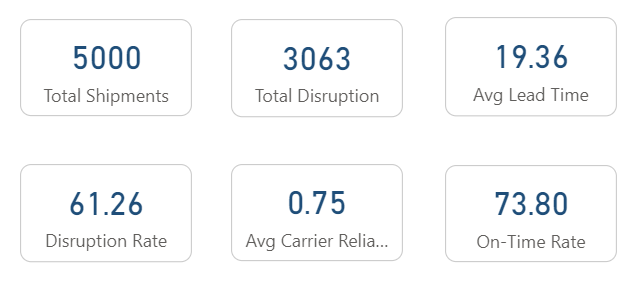

The page's visual inventory and layout, read from the dashboard file:
{"tool":"powerbi","page":{"name":"KPI","canvas":[1280,720],"ordinal":4},"visuals":[{"type":"card","fields":{"Values":["supply_chain_analysis shipments.Total Shipments"]},"box":[374.3,104.8,154.3,86.9],"z":0},{"type":"card","fields":{"Values":["supply_chain_analysis shipments.Total Disruption"]},"box":[563.3,104.8,154,87.8],"z":1},{"type":"card","fields":{"Values":["supply_chain_analysis shipments.Avg Lead Time"]},"box":[754.9,103,154,88.7],"z":2},{"type":"card","fields":{"Values":["supply_chain_analysis shipments.Disruption Rate"]},"box":[374.3,234.6,154,87.8],"z":3},{"type":"card","fields":{"Values":["supply_chain_analysis shipments.Avg Carrier Reliability"]},"box":[563.3,234.6,154,86.9],"z":4},{"type":"card","fields":{"Values":["supply_chain_analysis shipments.On-Time Rate"]},"box":[754.9,235.5,154,86.9],"z":5}]}

Visuals, with their boxes on the page's 1280x720 design canvas (x1, y1, x2, y2). These are canvas units, not pixel positions in the 639x289 screenshot, which may show the page scaled, cropped or inside an application window:
card - supply_chain_analysis shipments.Total Shipments: BBox(374, 105, 529, 192)
card - supply_chain_analysis shipments.Total Disruption: BBox(563, 105, 717, 193)
card - supply_chain_analysis shipments.Avg Lead Time: BBox(755, 103, 909, 192)
card - supply_chain_analysis shipments.Disruption Rate: BBox(374, 235, 528, 322)
card - supply_chain_analysis shipments.Avg Carrier Reliability: BBox(563, 235, 717, 322)
card - supply_chain_analysis shipments.On-Time Rate: BBox(755, 236, 909, 322)
